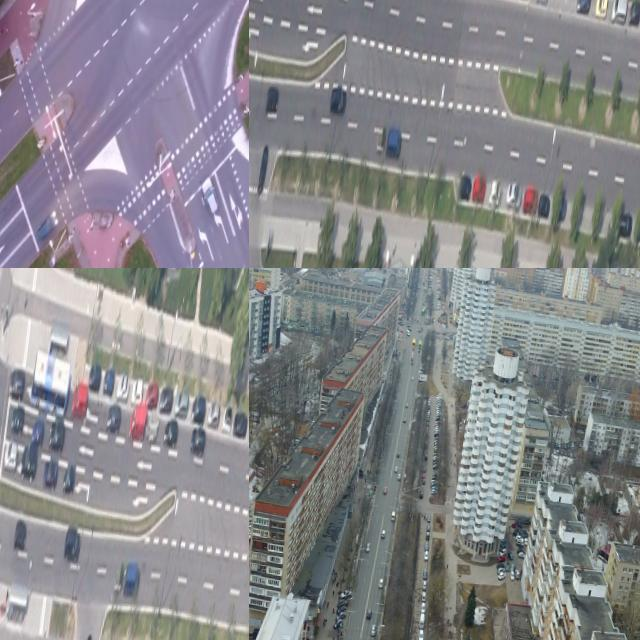UAI: (198, 175, 222, 215), (35, 209, 59, 242), (255, 143, 269, 196), (20, 442, 39, 481), (63, 526, 82, 562), (71, 383, 89, 420), (123, 562, 141, 596), (128, 405, 146, 439), (47, 420, 66, 452), (2, 438, 19, 473), (188, 425, 206, 458), (8, 366, 26, 397), (42, 458, 59, 489), (105, 402, 122, 433), (190, 393, 207, 424), (329, 87, 347, 116), (505, 180, 523, 209), (385, 127, 402, 157), (162, 419, 179, 448), (522, 187, 539, 215), (610, 0, 628, 26), (145, 379, 160, 410), (12, 519, 27, 550), (173, 389, 189, 417), (130, 375, 144, 406), (101, 366, 115, 397), (232, 410, 248, 437), (617, 211, 632, 239), (10, 407, 25, 435), (61, 465, 75, 495), (158, 386, 173, 414), (471, 175, 486, 202), (115, 373, 130, 400), (487, 178, 501, 206), (88, 363, 102, 391), (31, 418, 44, 448), (458, 173, 472, 200), (265, 86, 279, 113), (146, 415, 159, 442), (537, 193, 551, 218), (221, 404, 233, 433), (627, 0, 640, 26), (112, 565, 124, 593), (207, 402, 220, 427), (375, 130, 386, 153), (575, 0, 591, 15), (594, 0, 608, 17), (335, 609, 347, 622), (336, 598, 348, 609), (340, 589, 352, 600), (332, 617, 342, 630), (335, 604, 346, 615), (496, 554, 506, 564), (366, 607, 373, 620), (497, 571, 506, 581), (417, 629, 425, 640), (370, 623, 377, 635), (508, 570, 515, 582), (496, 566, 505, 575), (420, 602, 426, 615), (513, 569, 520, 580), (421, 579, 427, 591), (422, 568, 428, 580), (496, 563, 505, 571), (507, 550, 514, 560), (424, 541, 430, 552), (510, 562, 516, 573), (423, 551, 429, 561), (424, 530, 430, 540), (378, 578, 384, 588), (380, 530, 386, 539), (421, 591, 426, 601), (365, 542, 370, 552), (418, 489, 423, 499), (505, 562, 510, 572), (430, 489, 437, 496), (430, 486, 438, 492), (427, 514, 432, 523), (426, 523, 431, 531), (421, 478, 426, 486), (383, 486, 387, 495), (397, 472, 401, 480), (394, 465, 398, 473), (422, 472, 426, 479), (422, 466, 426, 473), (424, 453, 428, 460), (404, 402, 408, 409), (396, 451, 400, 457), (402, 417, 406, 423)
car: (28, 347, 72, 414)
harvester: (419, 613, 426, 629), (390, 511, 396, 521)
